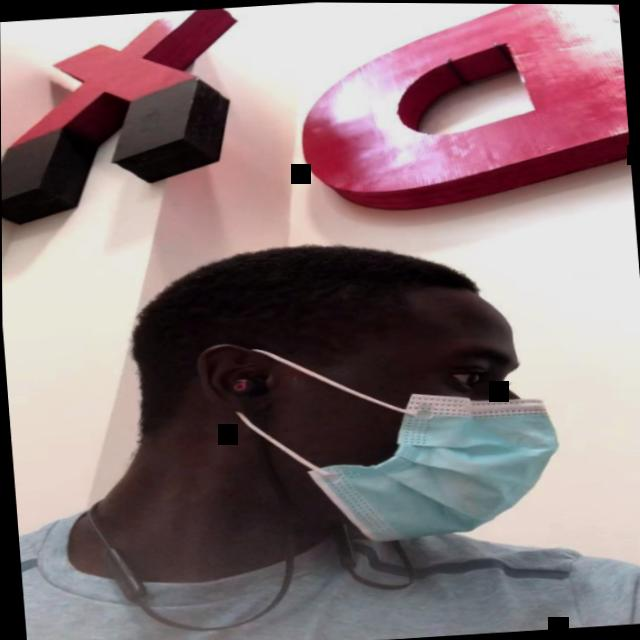Mask: (234, 290, 567, 552)
